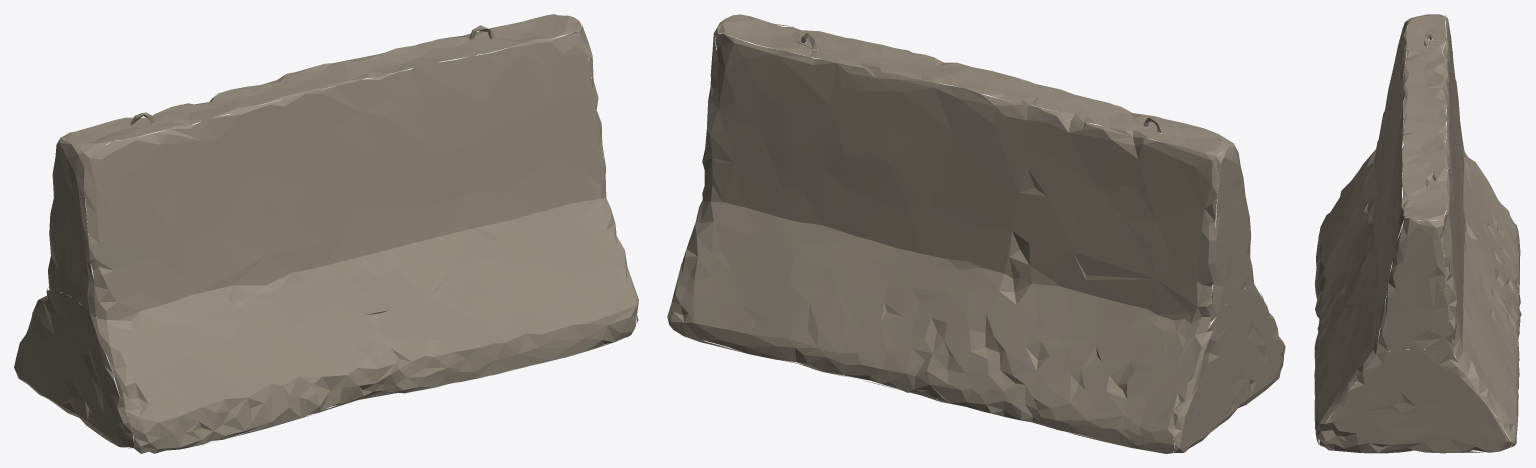
The model's file is barrier_lod1.glb.
The picture shows the model from 3 angles, left to right: view 1: azimuth 30°, elevation 25°; view 2: azimuth 150°, elevation 25°; view 3: azimuth 270°, elevation 25°; orthographic projection. The views are drawn at different scales.
Parts seen in each view (by area): view 1: barrier_lod1; view 2: barrier_lod1; view 3: barrier_lod1.
Boxes of the visible parts, box(x1,y1,x2,y2) form: barrier_lod1: box(14, 14, 638, 453); barrier_lod1: box(667, 14, 1285, 453); barrier_lod1: box(1314, 14, 1521, 453).
Bounding box in the file's own units: 1.51 × 0.8125 × 0.6197.
